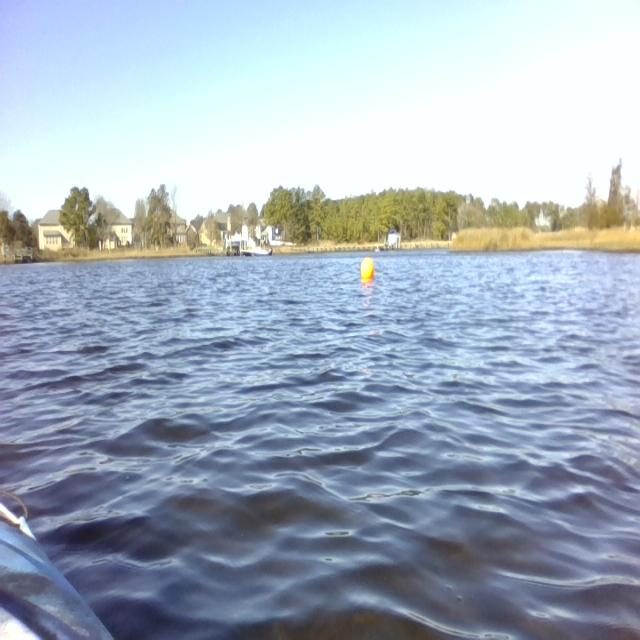Buoy: (356, 250, 378, 290)
